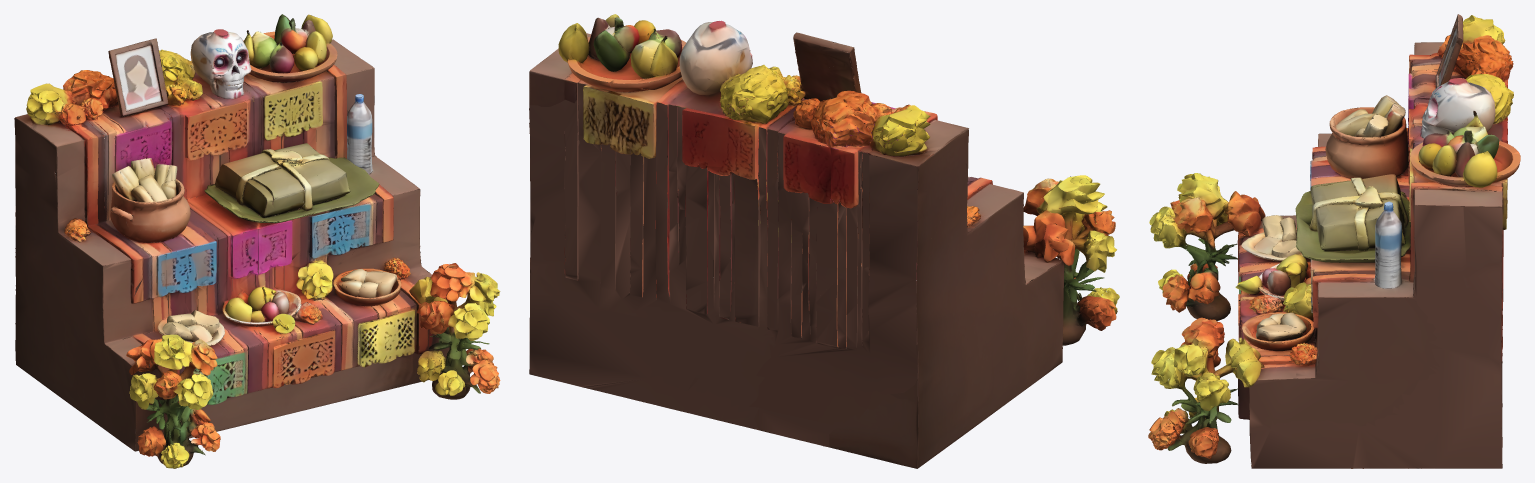
Rendered from ofrenda.obj.
3 views of the same model, side by side, from view 1: azimuth 30°, elevation 25°; view 2: azimuth 150°, elevation 25°; view 3: azimuth 270°, elevation 25° (orthographic). The views are drawn at different scales.
Parts seen in each view (by area): view 1: model; view 2: model; view 3: model.
Part boxes in pixels (box(x1,y1,x2,y2)): model: box(14, 14, 500, 468); model: box(529, 14, 1119, 468); model: box(1148, 14, 1520, 468).
Bounding box in the file's own units: 1.9 × 1.58 × 1.61.
1 material, 1 textured.
